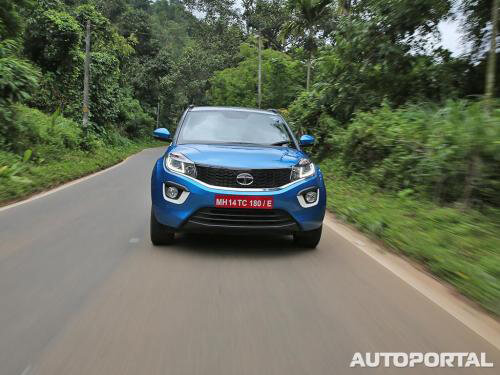car: (149, 103, 327, 248)
